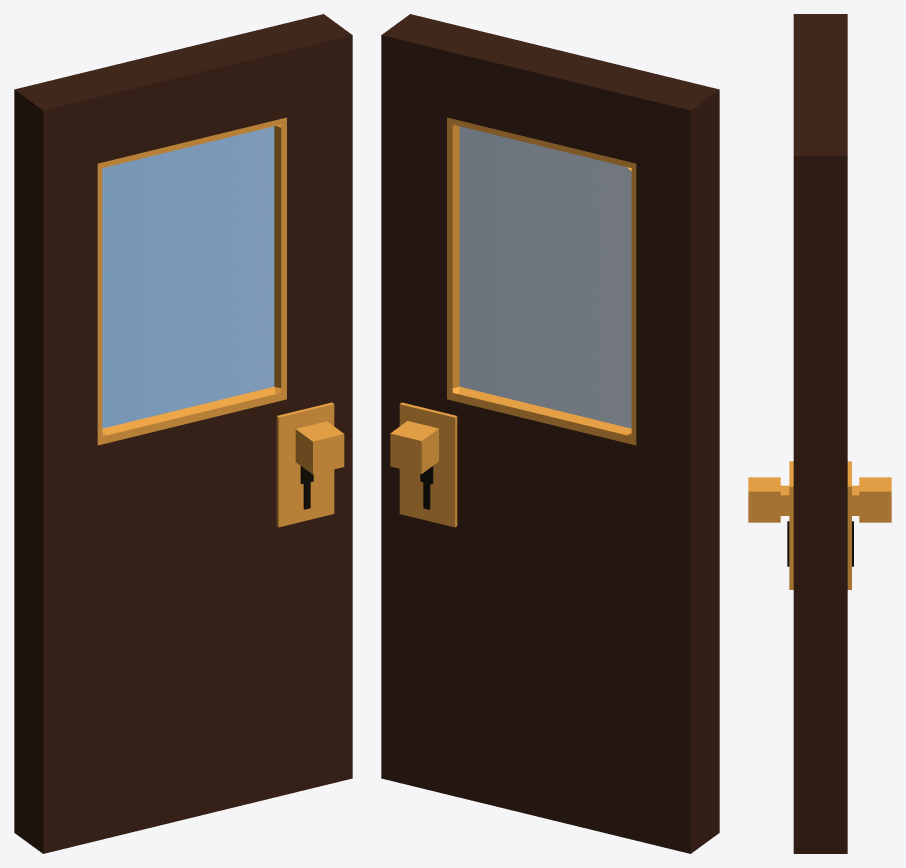
File: Door.fbx
3 views of the same model, side by side, from view 1: azimuth 30°, elevation 25°; view 2: azimuth 150°, elevation 25°; view 3: azimuth 270°, elevation 25° (orthographic). The views are drawn at different scales.
Parts seen in each view (by area): view 1: Cube, Cube.002, Cube.004; view 2: Cube, Cube.002, Cube.004; view 3: Cube, Cube.004, Cube.002.
Part boxes in pixels (x1,y1,x2,y2): Cube: (14, 14, 352, 853); Cube.002: (276, 402, 334, 527); Cube.004: (295, 421, 344, 474); Cube: (381, 14, 719, 853); Cube.002: (399, 402, 457, 527); Cube.004: (390, 421, 438, 473); Cube: (793, 14, 847, 853); Cube.004: (748, 477, 891, 522); Cube.002: (789, 461, 851, 589).
Bounding box in the file's own units: 589 × 1353 × 252.
